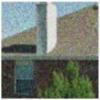chimneys: (34, 2, 58, 54)
